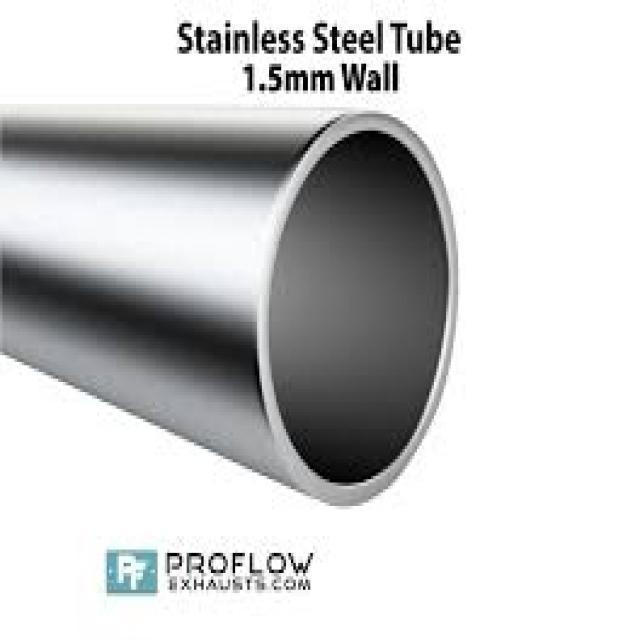pipe: (258, 113, 458, 506)
